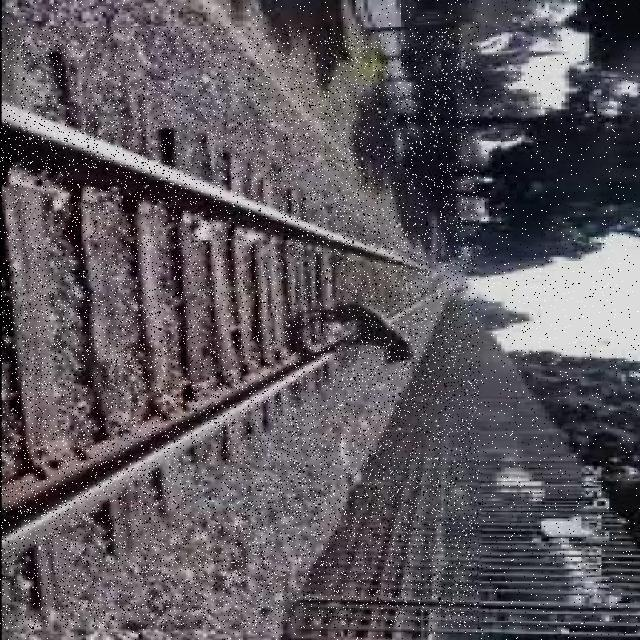danger: (294, 298, 426, 364)
rail: (0, 27, 479, 628)
